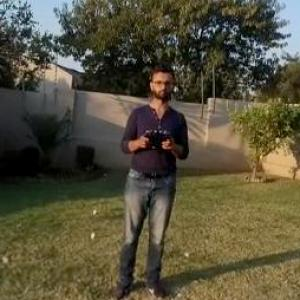follow: (98, 57, 194, 299)
